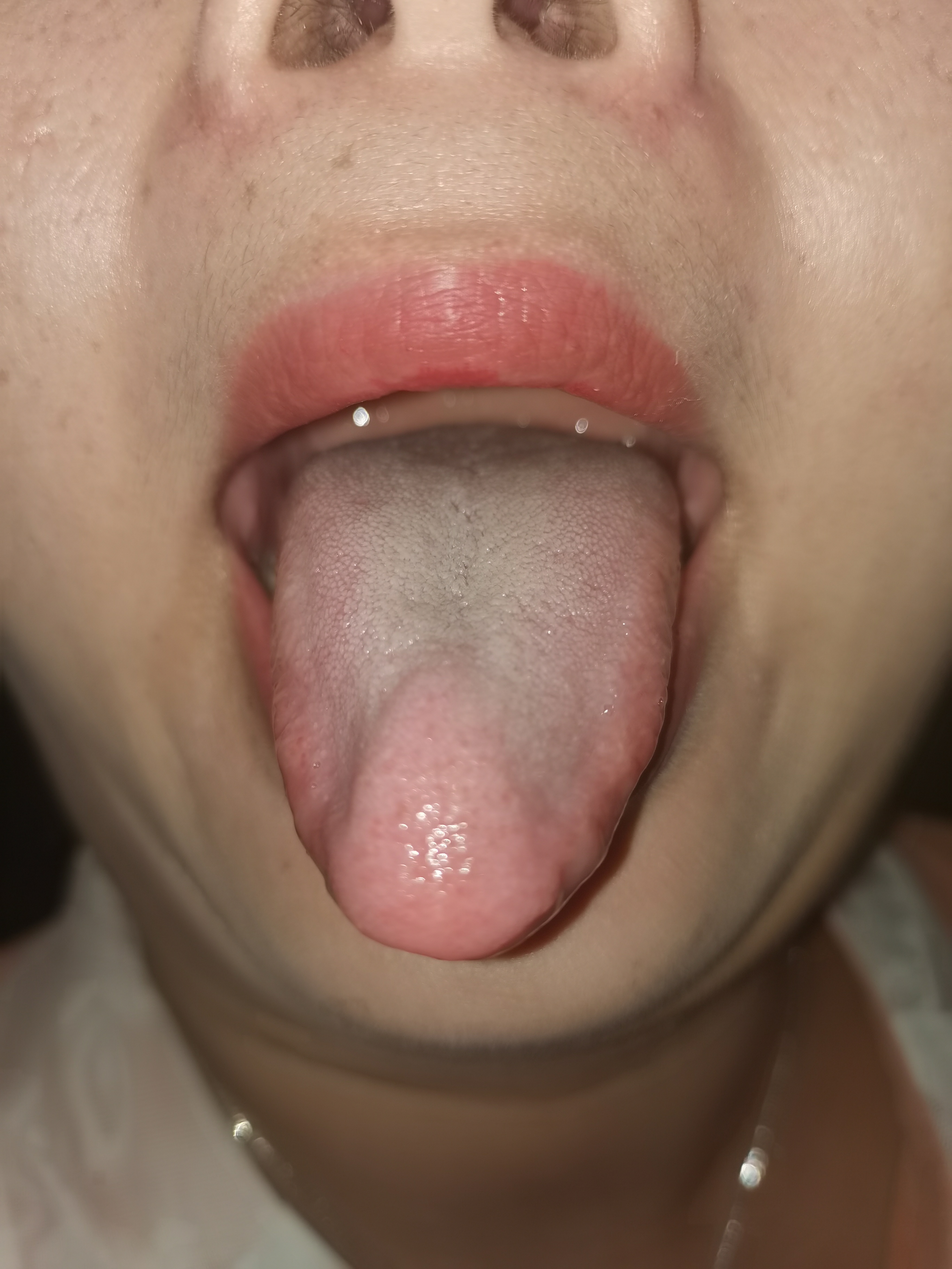baitaishe: (271, 427, 680, 959)
xinfeitu: (326, 663, 577, 959)
